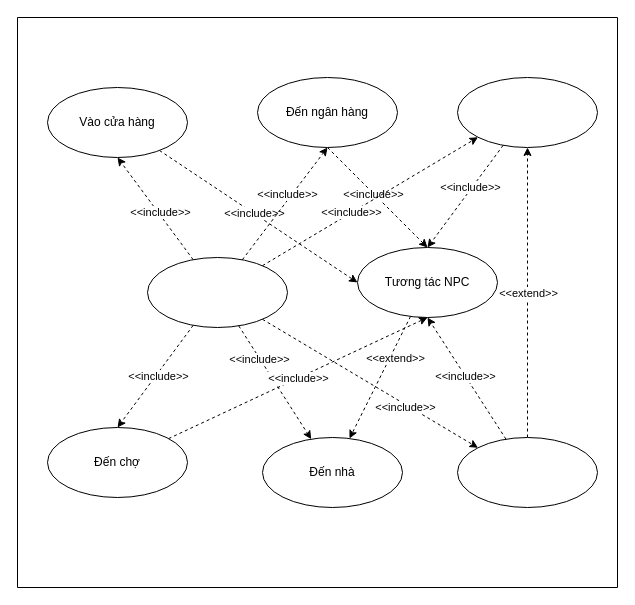
The diagram is 635 pixels wide and 605 high, and some of its shapes have lost their labels. The shapes that lost their labels are listed below. From the top down, each one's centre as x and y in pixels, then its label:
[527,112]: Đến thành phố
[217,292]: Di chuyển
[527,472]: Đến khu công nghiệp
